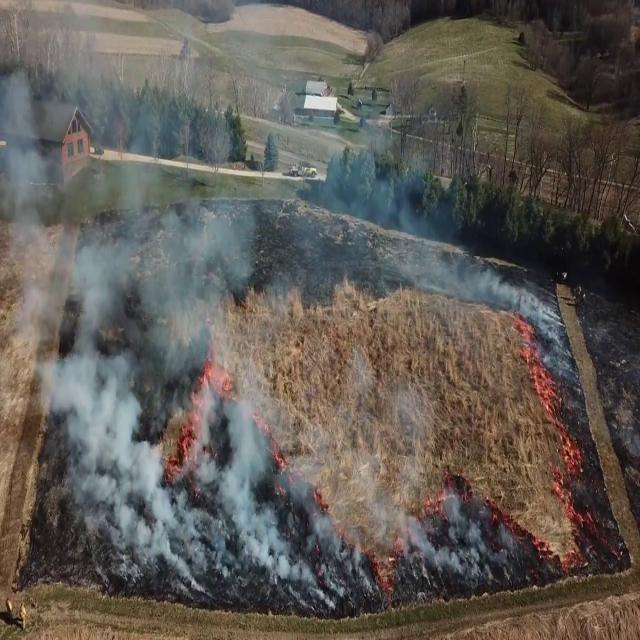Smoke: (0, 17, 300, 601)
